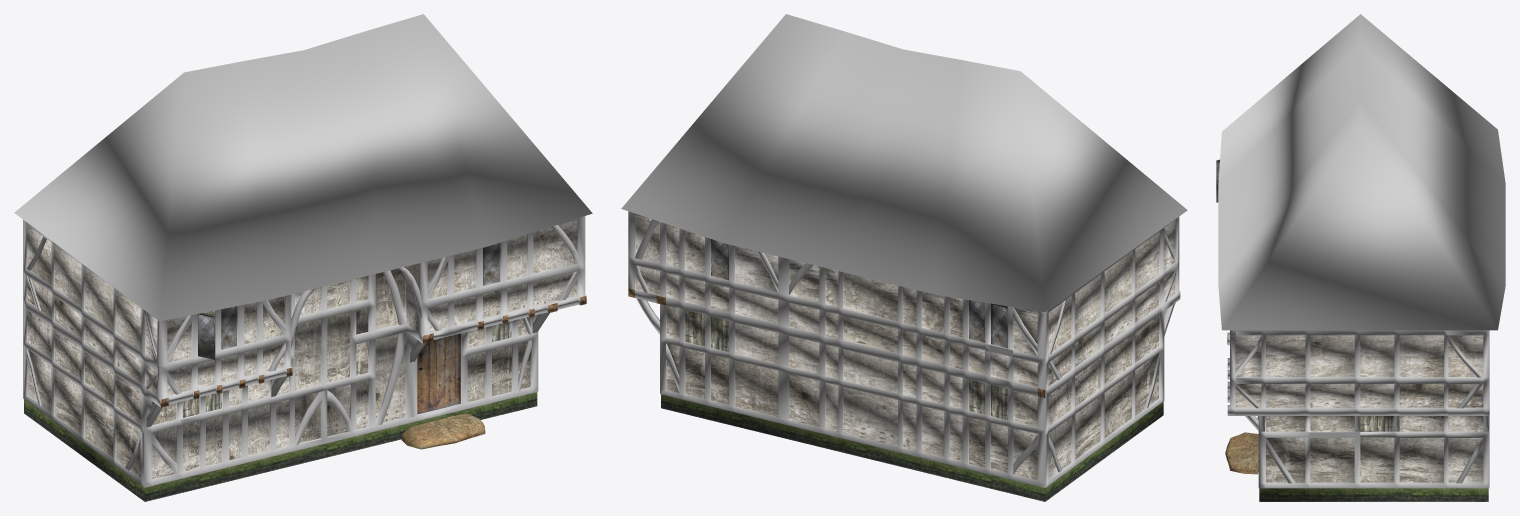
Rendered from MedievelHouse.fbx.
3 views of the same model, side by side, from view 1: azimuth 30°, elevation 25°; view 2: azimuth 150°, elevation 25°; view 3: azimuth 270°, elevation 25° (orthographic). The views are drawn at different scales.
Parts seen in each view (by area): view 1: House; view 2: House; view 3: House.
Boxes of the visible parts, x1,y1,x2,y2 form: House: [14, 14, 592, 501]; House: [621, 14, 1187, 501]; House: [1216, 14, 1505, 501].
Size of the model in its own units: 3.22 by 2.62 by 1.97.
